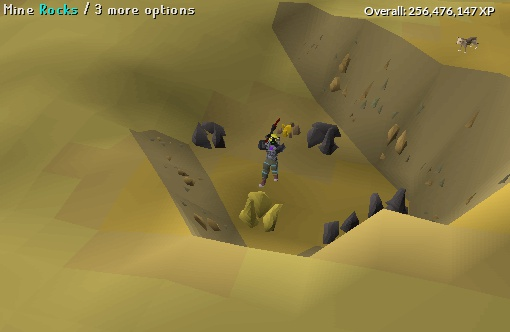depleted: (189, 119, 239, 161), (303, 117, 339, 154)
gold: (239, 185, 290, 236)
